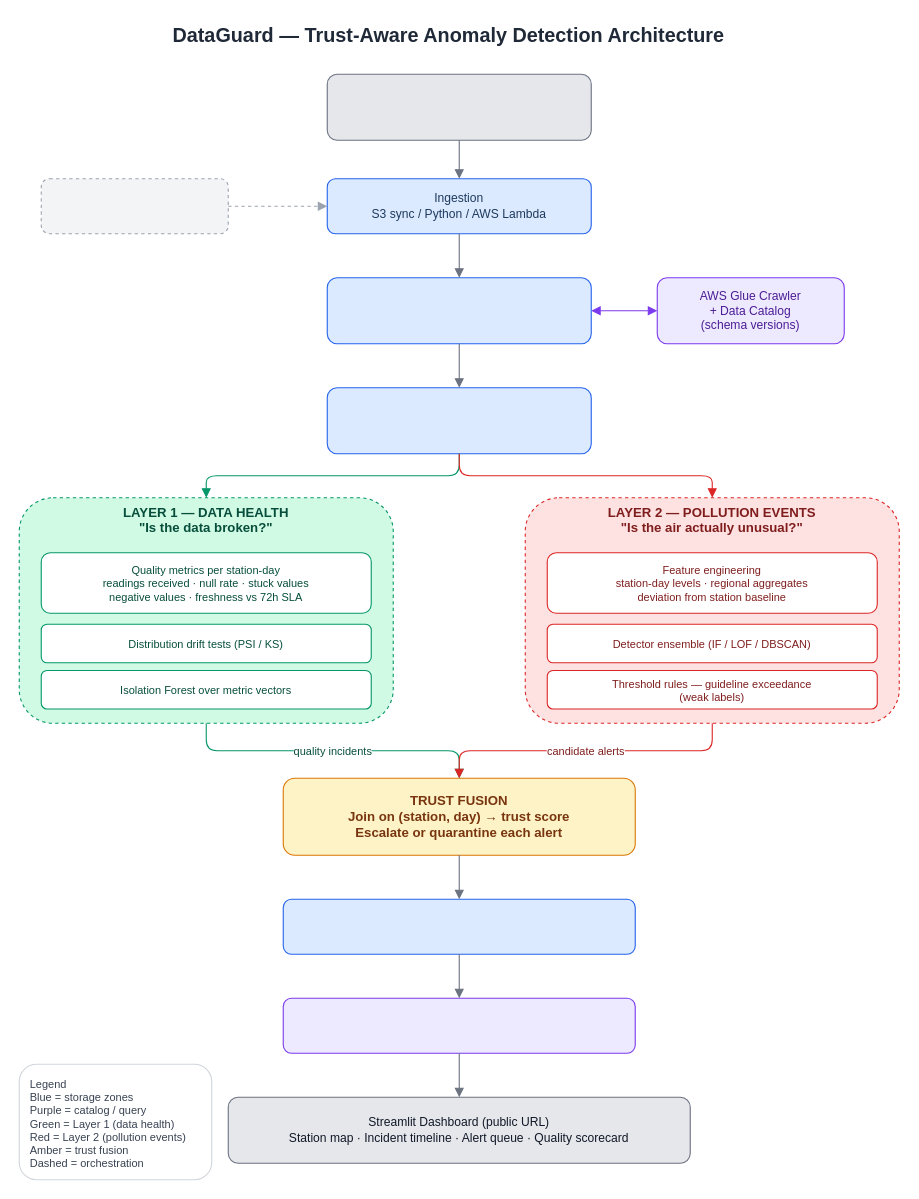
This 919x1199 diagram has some shape labels left out. Here are the shapes that lost their labels. From the top down, the centre of each, then its label:
At pixel 458 106: "OpenAQ Open Data Archive s3://openaq-data-archive Daily CSV.gz per station".
At pixel 134 206: "AWS Step Functions Scheduled orchestration".
At pixel 458 310: "S3 — BRONZE Raw, immutable locationid / year".
At pixel 458 420: "S3 — SILVER Units, types and parameters harmonised across providers".
At pixel 458 926: "S3 — GOLD Scored alerts + quality incidents".
At pixel 458 1025: "Amazon Athena SQL serving layer".
